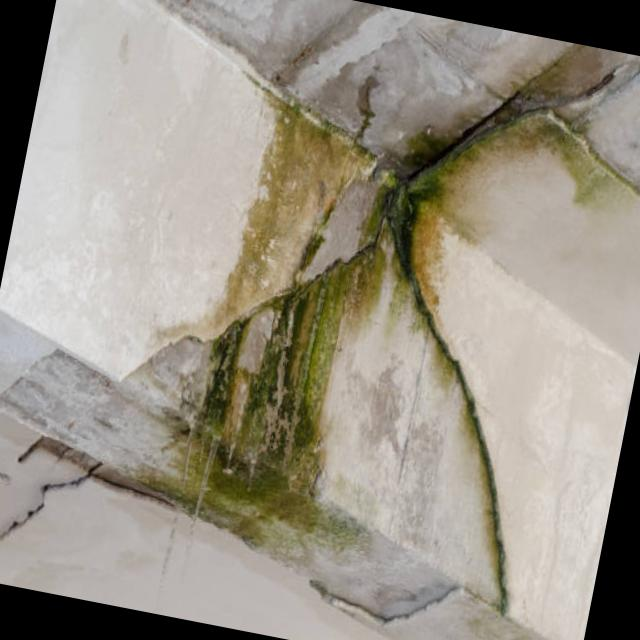crack: (317, 190, 576, 612), (397, 17, 640, 241), (178, 181, 386, 396), (0, 427, 107, 596)
